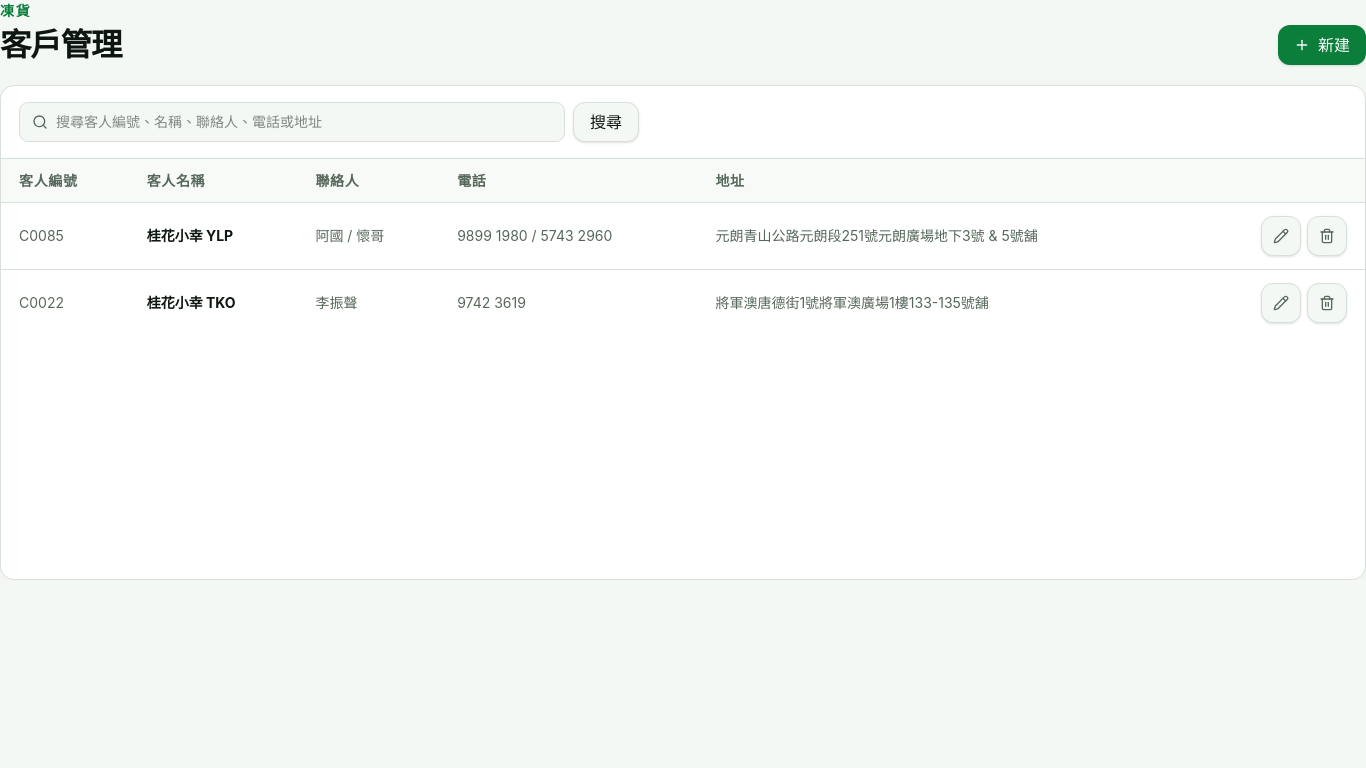
Meat customers page › opens the edit panel and updates a customer
The image size is (1366, 768).
Expected: the text "桂花小幸 YLP" is shown, [147,227,233,244]
Click the button named "編輯" in the row of "C0085": coordinates (1281, 236) [1261,216,1301,256]
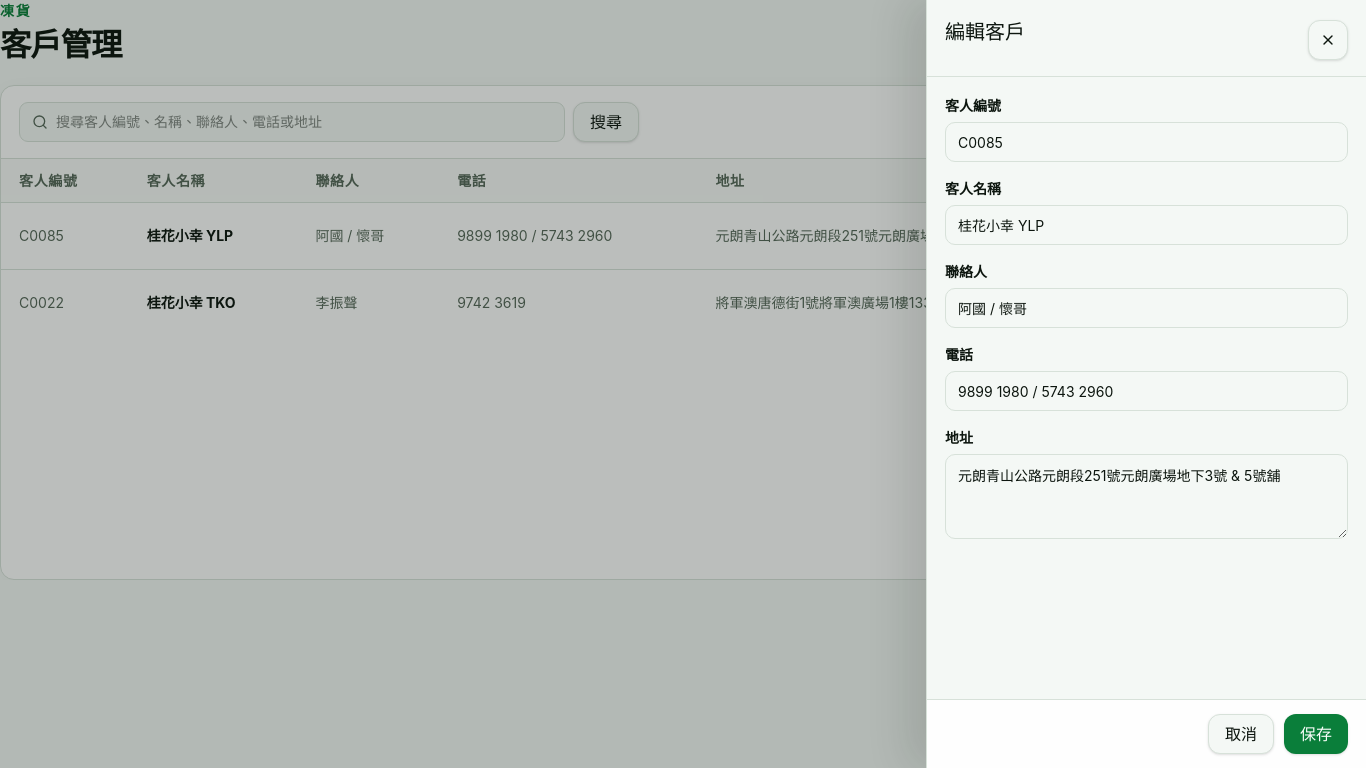
Expected: the dialog "編輯客戶" is shown, [926,0,1365,767]
Expected: the field with placeholder "例如：桂花小幸 YLP" holds "桂花小幸 YLP"
Expected: the field with placeholder "例如：C0085" holds "C0085", [945,122,1348,162]
Replace the text in the field with placeholder "例如：桂花小幸 YLP" with "桂花小幸 YLP 改": coordinates (1146, 225) [945,205,1348,245]
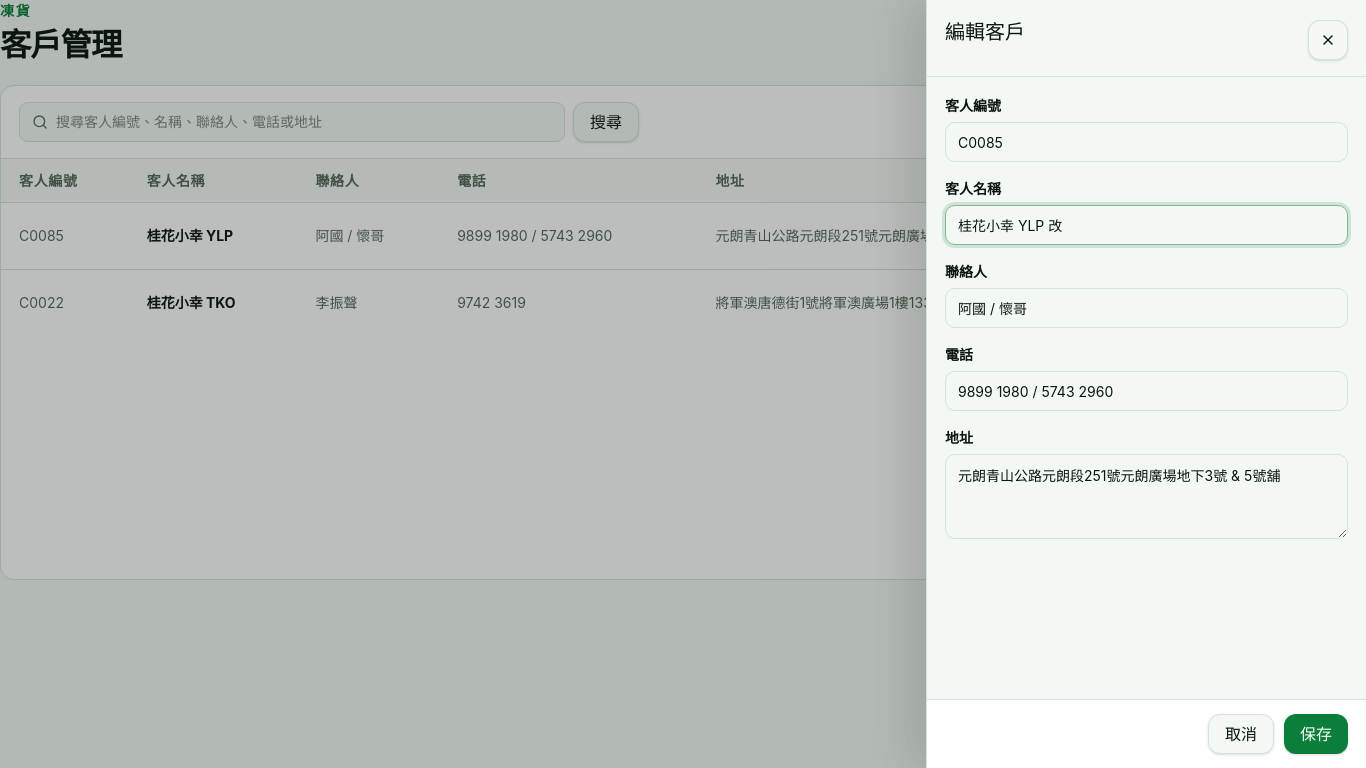
Replace the text in the field with placeholder "電話號碼" with "9123 0000": coordinates (1146, 391) [945,371,1348,411]
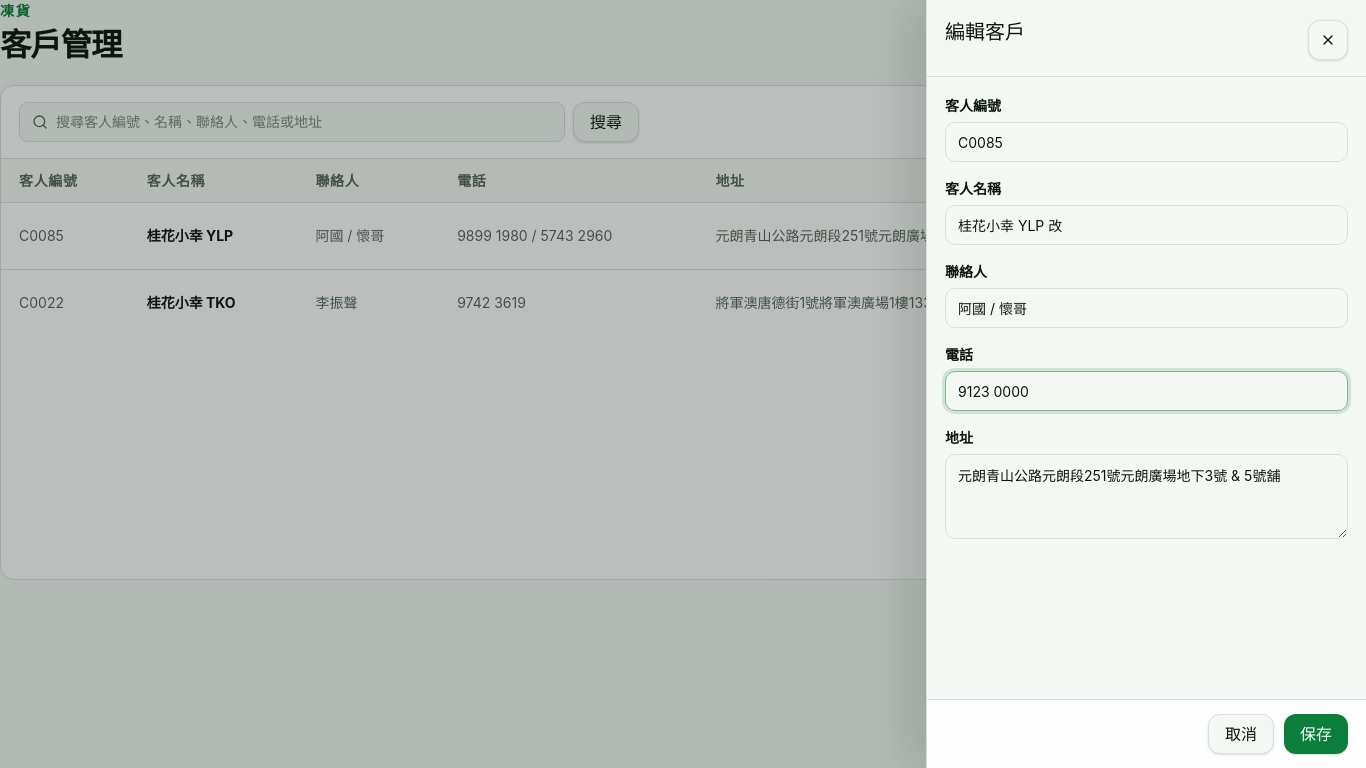
Click the button "保存": coordinates (1316, 734) [1284,714,1348,754]
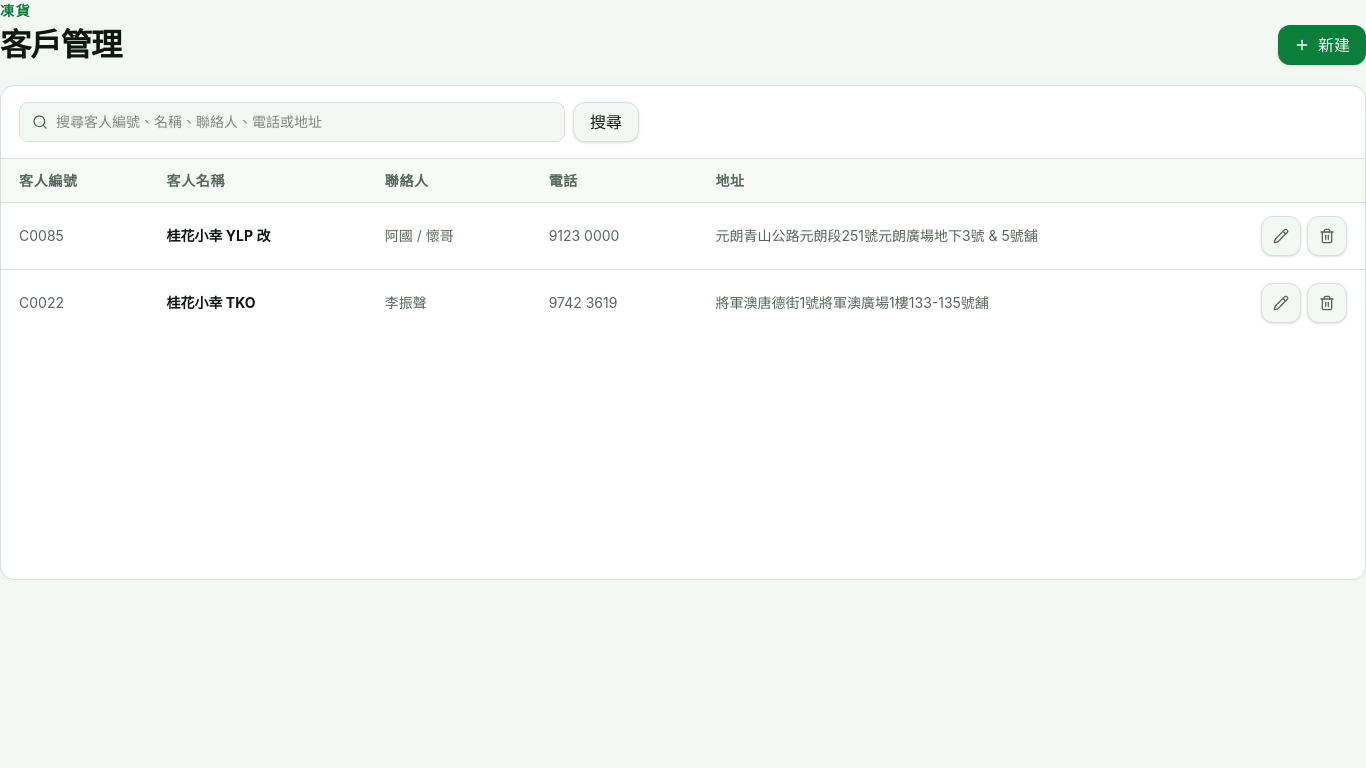
Expected: the text "桂花小幸 TKO" is shown, [166,294,256,311]
Expected: the text "桂花小幸 YLP 改" is shown, [166,227,270,244]
